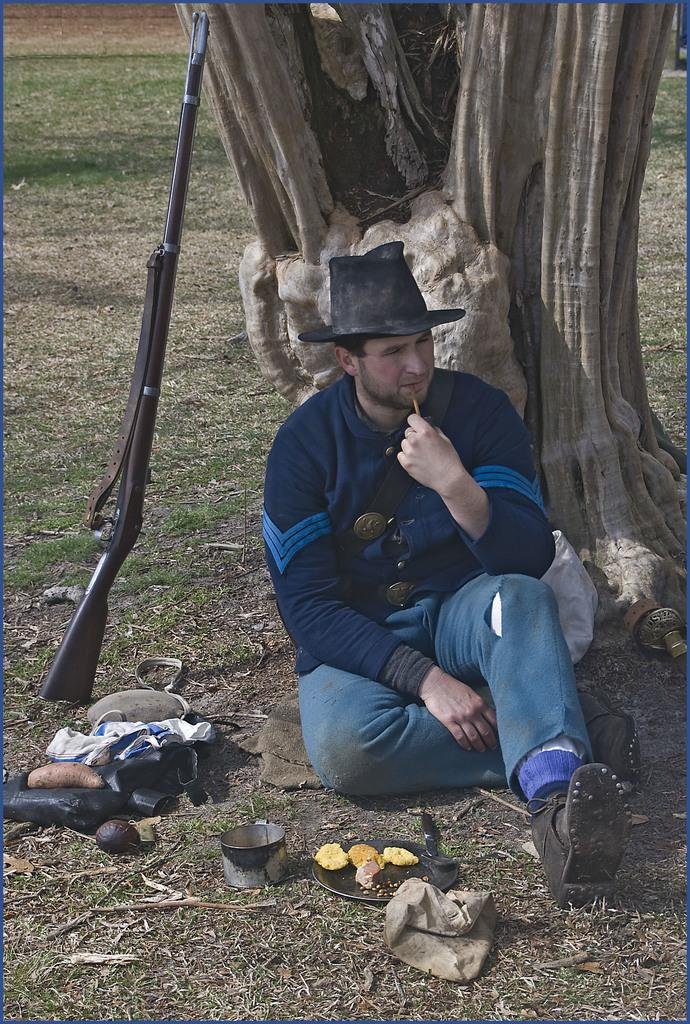Hat: (297, 242, 463, 352)
